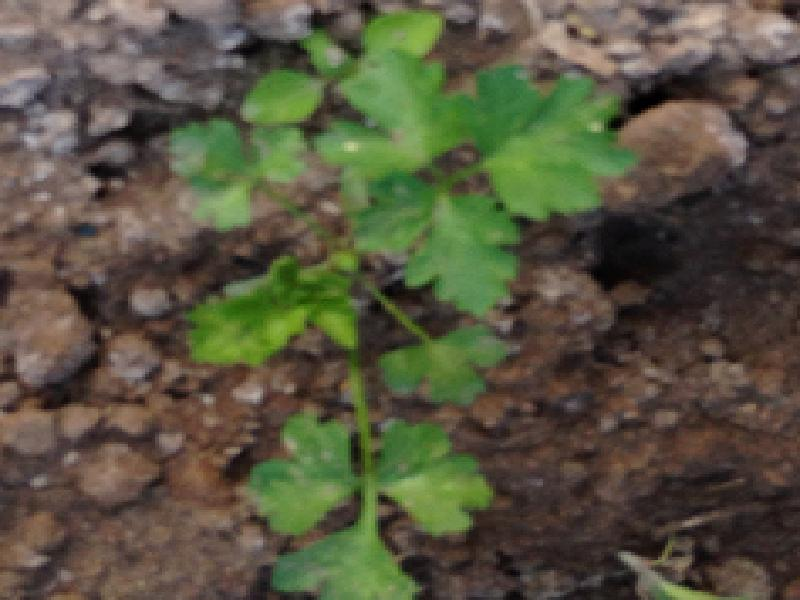radish: (146, 127, 731, 475)
